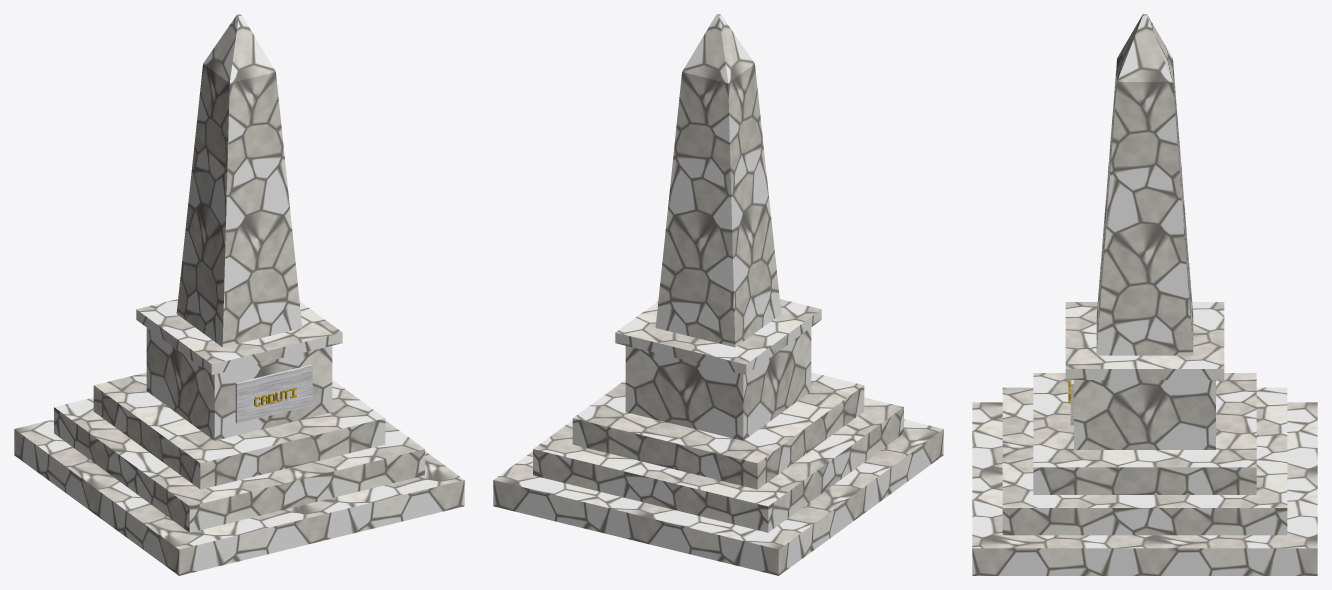
The model's file is monumento.obj.
The picture shows the model from 3 angles, left to right: view 1: azimuth 30°, elevation 25°; view 2: azimuth 150°, elevation 25°; view 3: azimuth 270°, elevation 25°; orthographic projection. The views are drawn at different scales.
Visible parts, largest first — view 1: pietra_000, pietra_001, pietra_002, metallo_003; view 2: pietra_000, pietra_001, pietra_002; view 3: pietra_000, pietra_002, pietra_001.
Part boxes in pixels (box(x1,y1,x2,y2)): pietra_000: box(14, 64, 464, 575); pietra_001: box(146, 328, 332, 440); pietra_002: box(136, 14, 342, 374); metallo_003: box(235, 364, 312, 423); pietra_000: box(493, 64, 943, 575); pietra_001: box(625, 328, 811, 440); pietra_002: box(615, 14, 821, 374); pietra_000: box(972, 61, 1317, 575); pietra_002: box(1065, 14, 1224, 379); pietra_001: box(1074, 380, 1215, 449).
Size of the model in its own units: 3.4 by 5.3 by 3.4.
Materials: 5 (4 with a texture image).
